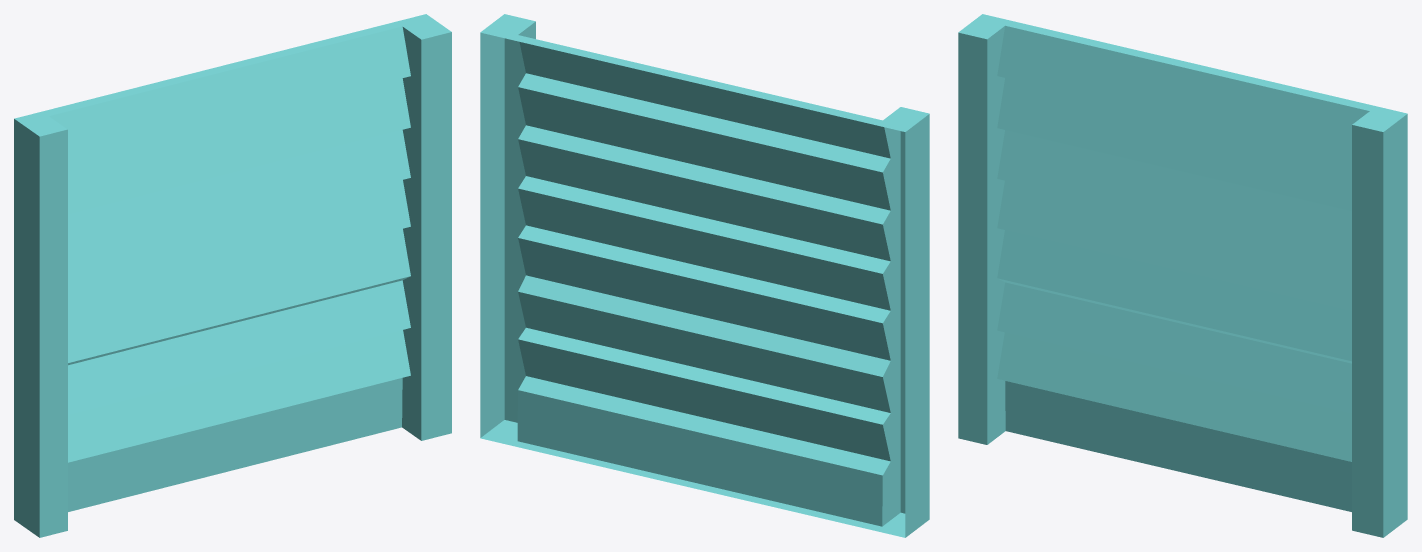
The model's file is muur 1 voorkant.fbx.
3 renders of one model, left to right at view 1: azimuth 30°, elevation 25°; view 2: azimuth 150°, elevation 25°; view 3: azimuth 330°, elevation 25°, orthographic.
Visible parts, largest first — view 1: korte muur.001; view 2: korte muur.001; view 3: korte muur.001.
Part boxes in pixels (bbox=[...]): korte muur.001: bbox=[14, 14, 451, 537]; korte muur.001: bbox=[480, 14, 929, 537]; korte muur.001: bbox=[958, 14, 1407, 537].
Size of the model in its own units: 3.05 by 2.8 by 0.3677.
